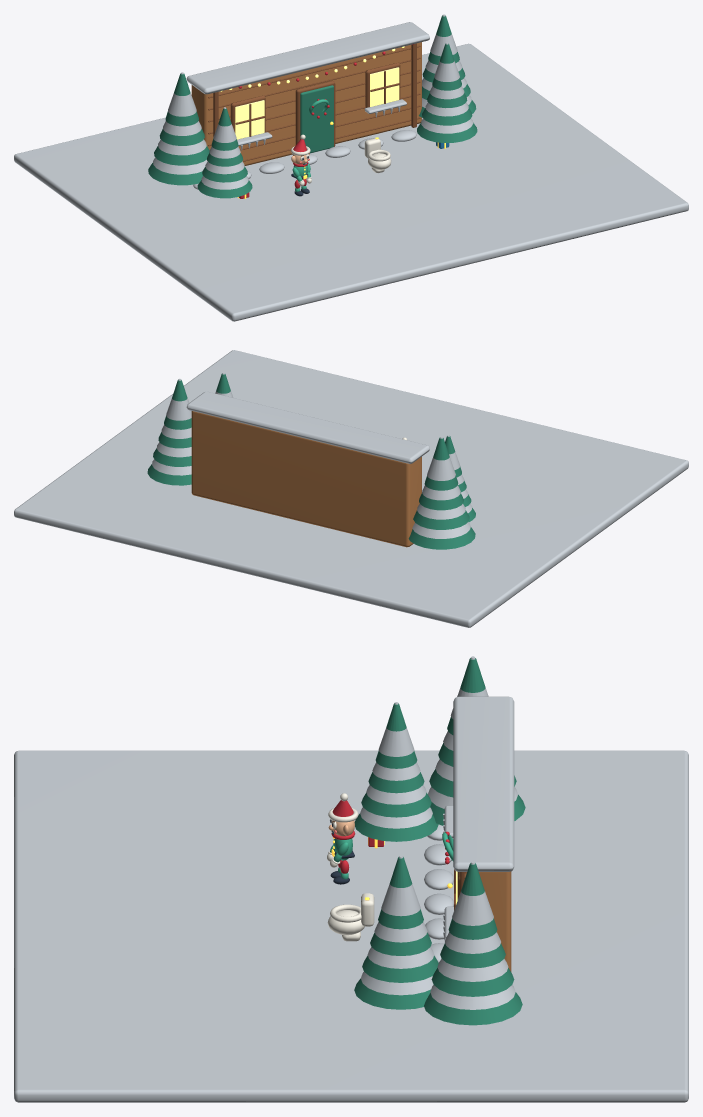
File: chapter-03.glb
3 renders of one model, top to bottom at view 1: azimuth 30°, elevation 25°; view 2: azimuth 150°, elevation 25°; view 3: azimuth 270°, elevation 25°, orthographic. The views are drawn at different scales.
Parts seen in each view (by area): view 1: Schneeboden, Werkstatt, Schneegesims, Wichteltür, Warmes Fenster, Warmes Fenster.001, Tannenzweig.004, Tannenzweig.008, Tannenzweig.009, Türrahmen, Tannenzweig.011, Schnee.011 (+7 smaller); view 2: Schneeboden, Werkstatt, Schneegesims, Tannenzweig.008, Tannenzweig.009, Tannenzweig.011, Schnee.008, Schnee.011, Tannenzweig.015, Tannenzweig.012, Tannenzweig.010, Schnee.009 (+1 smaller); view 3: Schneeboden, Schneegesims, Werkstatt, Tannenzweig.012, Tannenzweig.013, Tannenzweig.015, Tannenzweig, Schnee.012, Tannenzweig.005, Tannenzweig.004, Schnee.015, Tannenzweig.007 (+15 smaller).
Part boxes in pixels (box(x1,y1,x2,y2)): Schneeboden: box(14, 43, 688, 321); Werkstatt: box(191, 42, 421, 165); Schneegesims: box(186, 22, 429, 94); Wichteltür: box(300, 85, 333, 153); Warmes Fenster: box(235, 100, 264, 139); Warmes Fenster.001: box(370, 67, 399, 106); Tannenzweig.004: box(417, 122, 477, 142); Tannenzweig.008: box(148, 163, 202, 185); Tannenzweig.009: box(154, 146, 209, 165); Türrahmen: box(295, 81, 335, 146); Tannenzweig.011: box(165, 73, 198, 126); Schnee.011: box(168, 72, 196, 116); Schneeboden: box(14, 350, 688, 627); Werkstatt: box(191, 411, 421, 547); Schneegesims: box(186, 391, 429, 463); Tannenzweig.008: box(408, 527, 475, 549); Tannenzweig.009: box(413, 510, 469, 529); Tannenzweig.011: box(424, 437, 458, 490); Schnee.008: box(412, 522, 470, 538); Schnee.011: box(427, 436, 455, 480); Tannenzweig.015: box(164, 380, 191, 429); Tannenzweig.012: box(147, 464, 191, 485); Tannenzweig.010: box(419, 493, 463, 510); Schnee.009: box(417, 504, 465, 519); Schneeboden: box(14, 750, 688, 1102); Schneegesims: box(453, 696, 514, 871); Werkstatt: box(466, 871, 511, 971); Tannenzweig.012: box(424, 992, 522, 1025); Tannenzweig.013: box(431, 968, 514, 996); Tannenzweig.015: box(448, 863, 497, 939); Tannenzweig: box(354, 813, 438, 841); Schnee.012: box(430, 985, 515, 1009); Tannenzweig.005: box(362, 955, 438, 982); Tannenzweig.004: box(354, 978, 430, 1009); Schnee.015: box(452, 861, 493, 925); Tannenzweig.007: box(378, 857, 423, 929).
Size of the model in its own units: 18 by 4.39 by 15.
